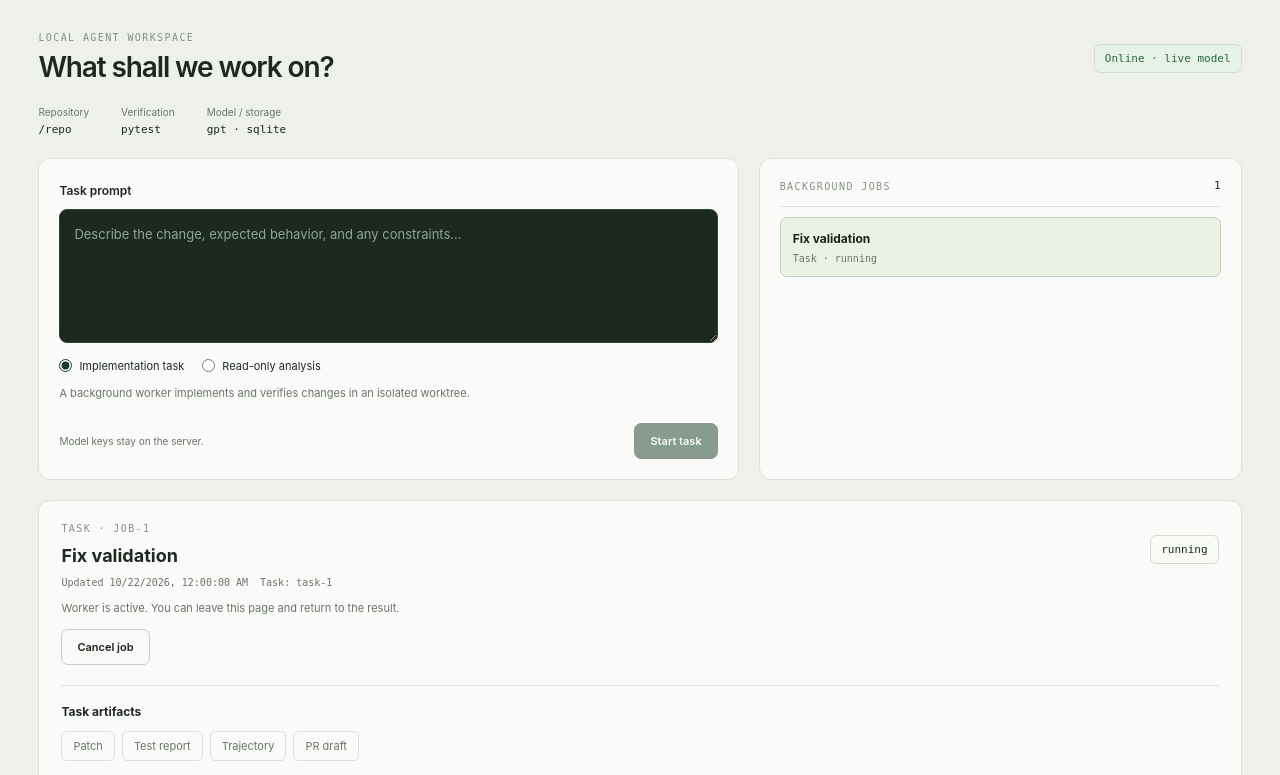
requests cooperative cancellation and keeps the returned status visible
The image size is (1280, 775).
Click the button "Cancel job".
click(106, 647)  # box [61,629,150,665]
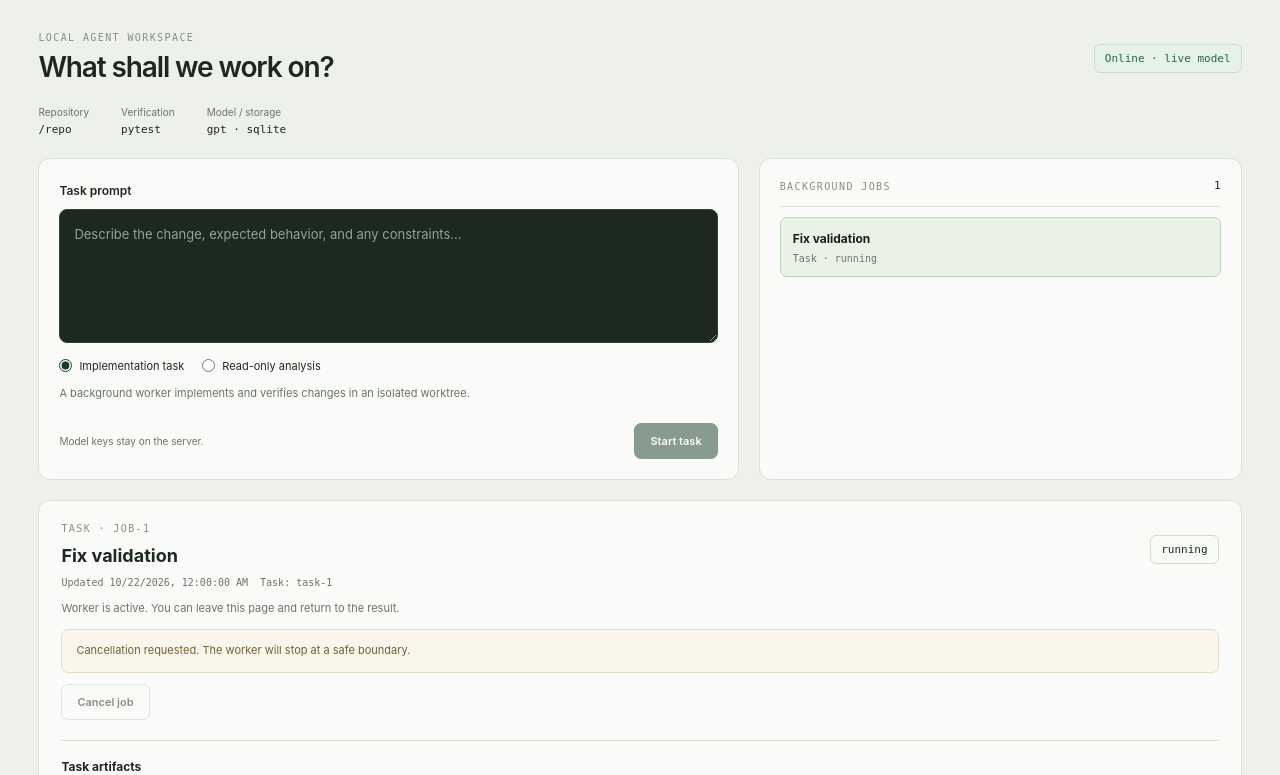
Now the text "Cancellation requested. The worker will stop at a safe boundary." is shown, box [61,629,1219,673]
Now the button "Cancel job" is disabled, box [61,684,150,720]
